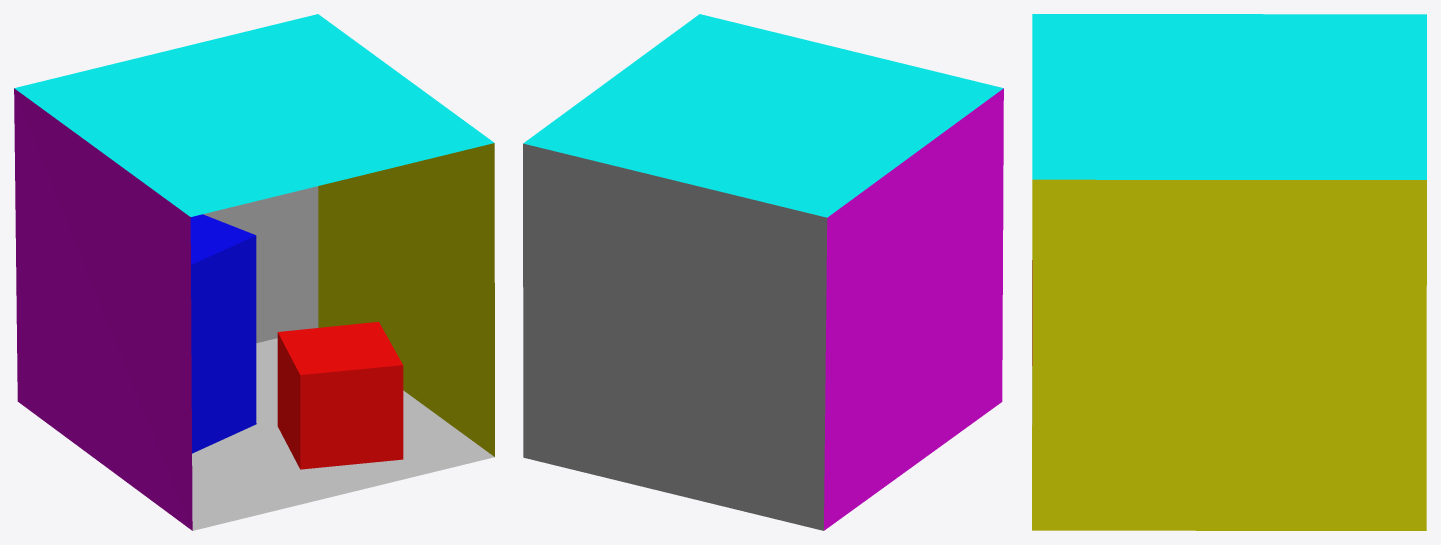
The model's file is lighting-cornell-box.obj.
The picture shows the model from 3 angles, left to right: view 1: azimuth 30°, elevation 25°; view 2: azimuth 150°, elevation 25°; view 3: azimuth 270°, elevation 25°; orthographic projection. The views are drawn at different scales.
Parts seen in each view (by area): view 1: left_wall, ceiling, right_wall, floor, short_box, tall_box, back_wall; view 2: back_wall, left_wall, ceiling; view 3: right_wall, ceiling.
Boxes of the visible parts, x1,y1,x2,y2 form: left_wall: (14,88,192,530); ceiling: (14,14,494,216); right_wall: (318,143,494,456); floor: (192,338,494,530); short_box: (277,322,403,469); tall_box: (190,214,256,453); back_wall: (203,186,318,343); back_wall: (523,143,827,530); left_wall: (824,88,1003,530); ceiling: (523,14,1003,217); right_wall: (1032,179,1426,530); ceiling: (1032,14,1426,179).
Size of what is drawn, in the model's own units: 5.56 by 5.49 by 5.6.
